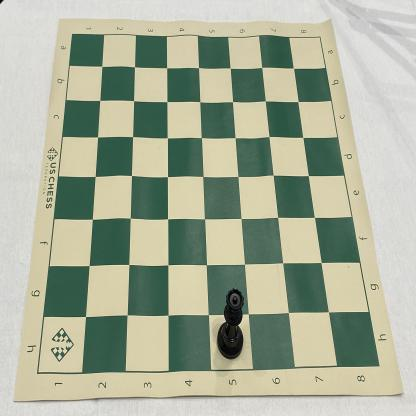black-queen: (217, 288, 244, 360)
